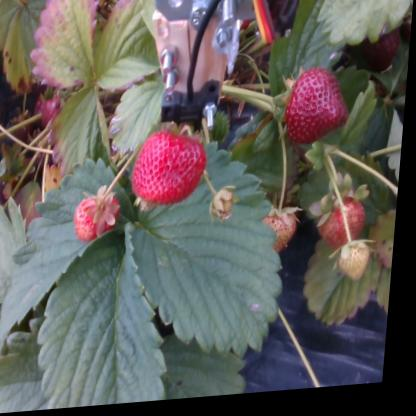ripe: (132, 120, 215, 210), (285, 72, 354, 149), (77, 192, 123, 245)
unripe: (264, 215, 301, 254), (343, 247, 374, 286)
